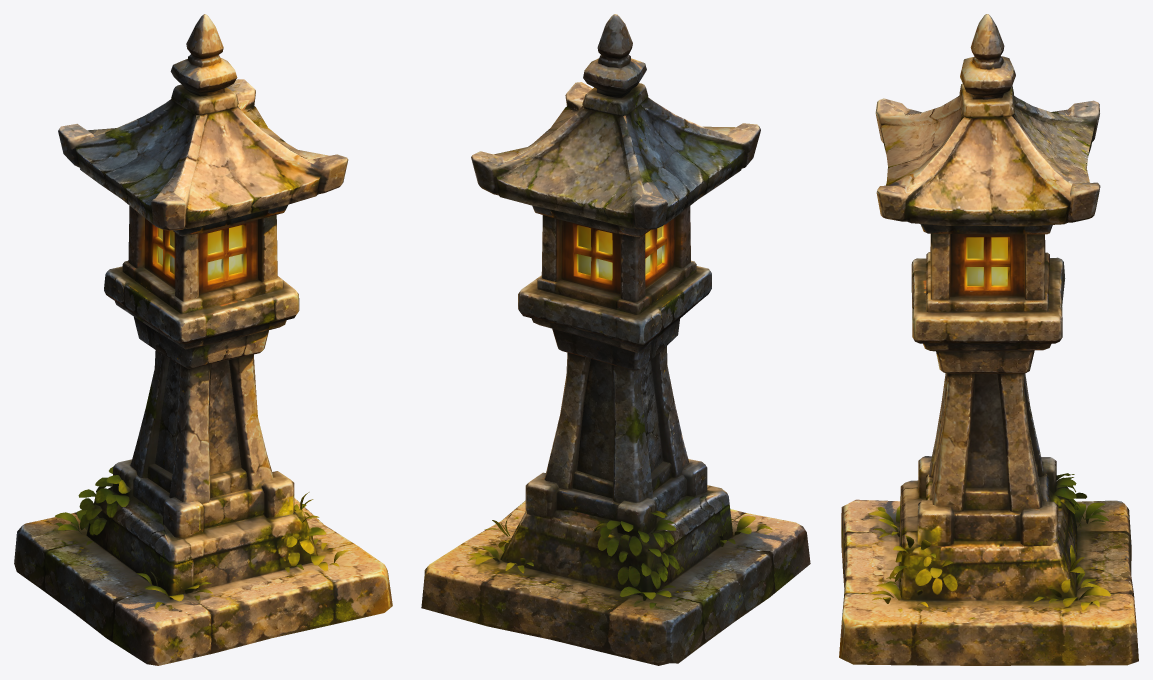
The model's file is stone+lantern+3d+model.fbx.
3 renders of one model, left to right at view 1: azimuth 30°, elevation 25°; view 2: azimuth 150°, elevation 25°; view 3: azimuth 270°, elevation 25°, orthographic. The views are drawn at different scales.
Parts seen in each view (by area): view 1: fa21593c_dcdf_437f_a749_1b822c14b722; view 2: fa21593c_dcdf_437f_a749_1b822c14b722; view 3: fa21593c_dcdf_437f_a749_1b822c14b722.
Boxes of the visible parts, x1,y1,x2,y2 form: fa21593c_dcdf_437f_a749_1b822c14b722: (14,14,392,665); fa21593c_dcdf_437f_a749_1b822c14b722: (421,14,810,665); fa21593c_dcdf_437f_a749_1b822c14b722: (839,14,1138,665).
Bounding box in the file's own units: 0.4565 × 0.9995 × 0.4604.
